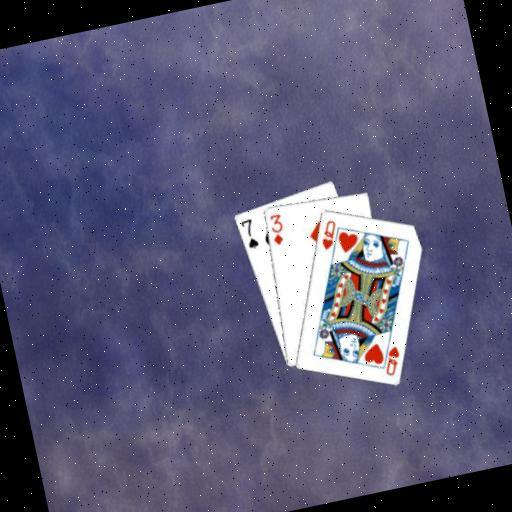3D: (264, 210, 287, 248)
7S: (236, 215, 261, 252)
QH: (373, 335, 405, 378), (314, 216, 342, 252)
